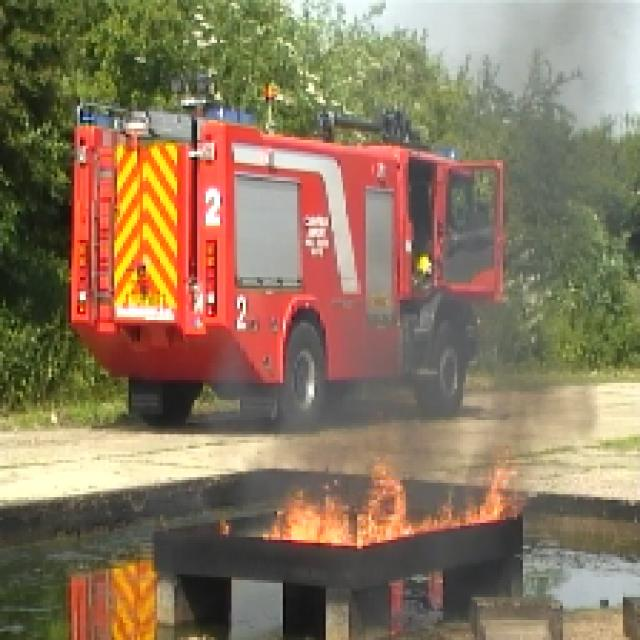fire: (246, 471, 524, 546)
